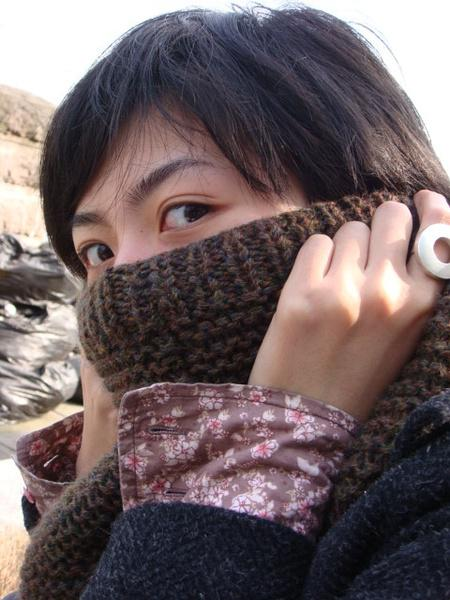OK: (64, 142, 364, 442)
